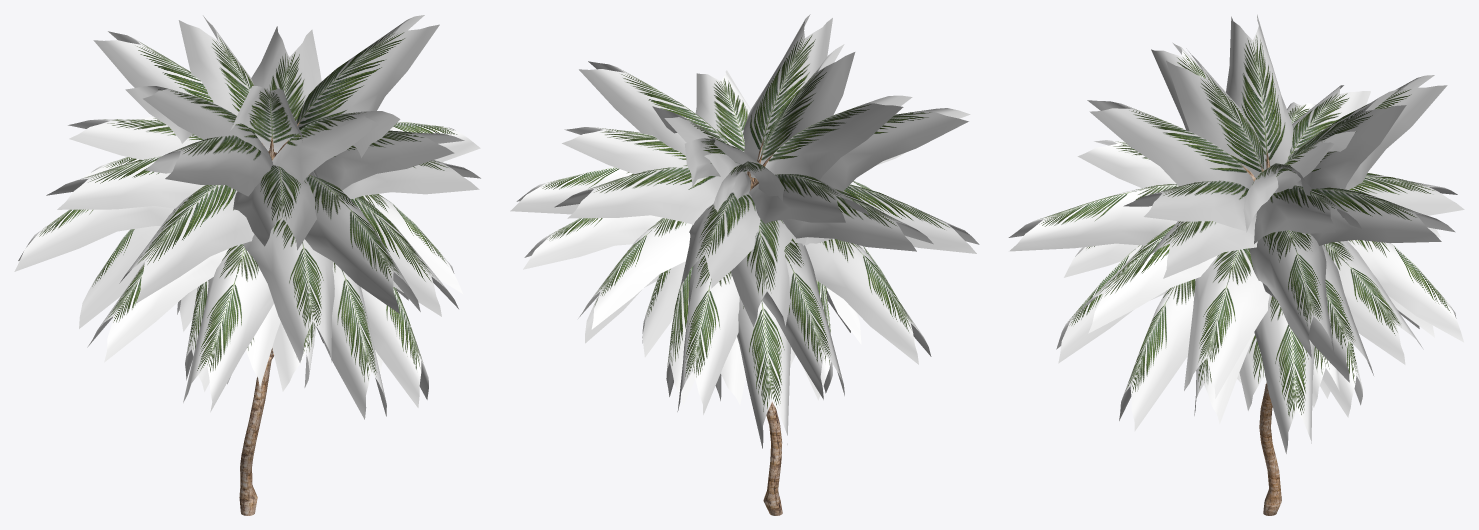
Rendered from Plam_Trees.fbx.
3 renders of one model, left to right at view 1: azimuth 30°, elevation 25°; view 2: azimuth 150°, elevation 25°; view 3: azimuth 270°, elevation 25°, orthographic. The views are drawn at different scales.
Visible parts, largest first — view 1: tree; view 2: tree; view 3: tree.
Boxes of the visible parts, <box> form: tree: <box>14,15,480,515</box>; tree: <box>510,14,979,515</box>; tree: <box>1008,14,1464,515</box>.
Size of the model in its own units: 694 by 716 by 662.
2 materials, 2 textured.
